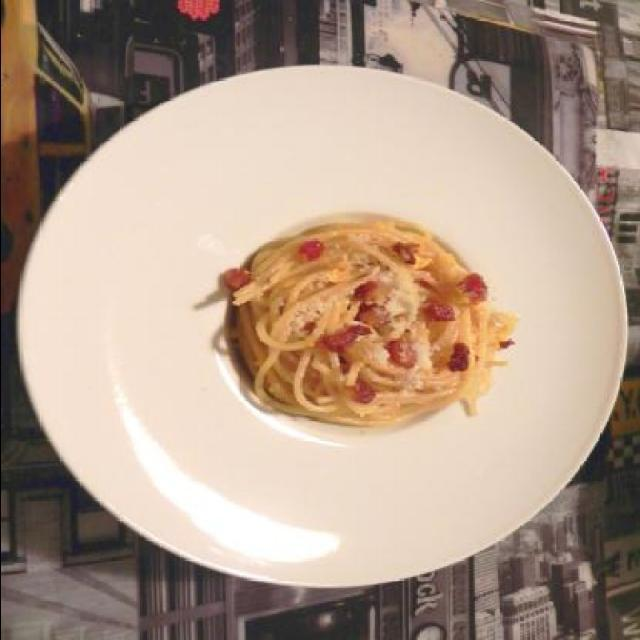Pasta with carbonara sauce: (174, 204, 532, 472)
